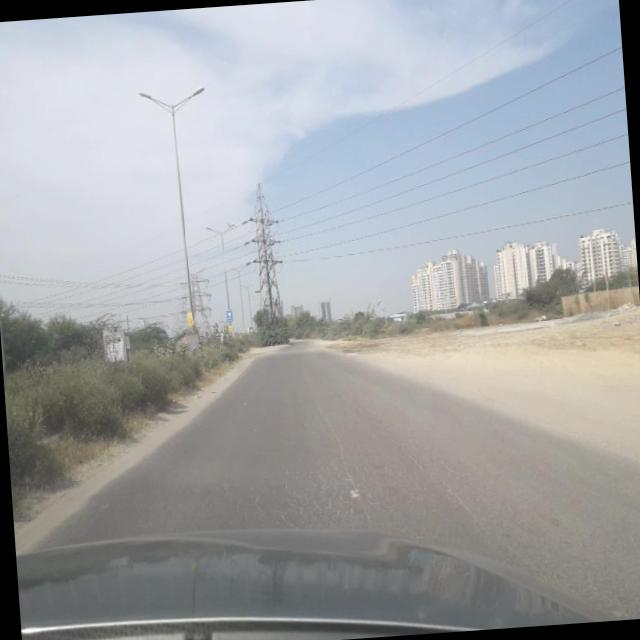crack: (229, 438, 518, 544)
pothole: (388, 424, 521, 558), (307, 365, 370, 526)
